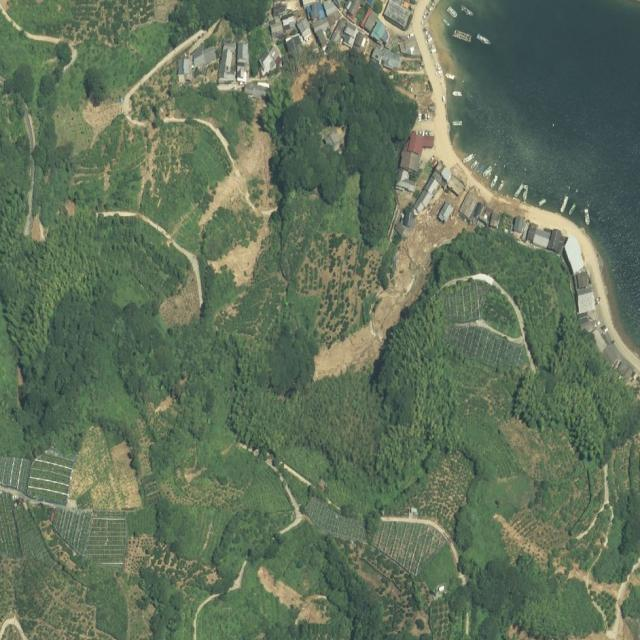landslide: (315, 250, 430, 378), (196, 118, 277, 285), (99, 210, 202, 304), (82, 52, 174, 137), (258, 570, 329, 625), (128, 538, 139, 574)
